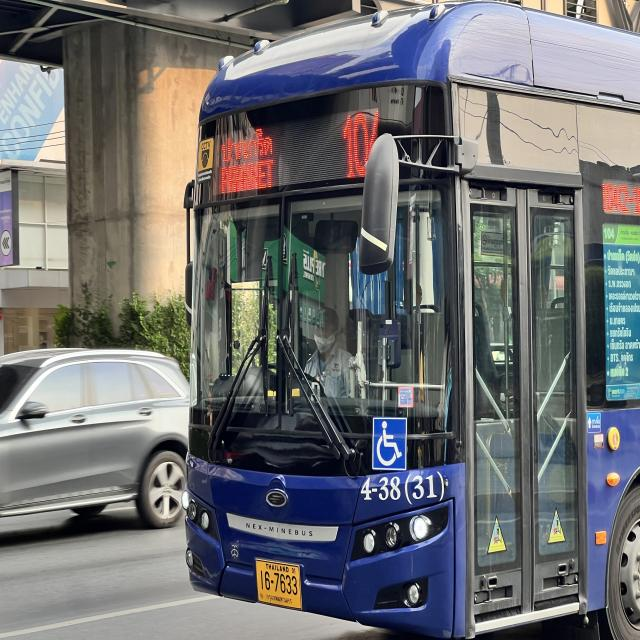Bus-Line-Number: (341, 106, 385, 179)
Destination-Sign-Normal: (215, 121, 278, 194)
TSB-Bus: (170, 0, 640, 640)
